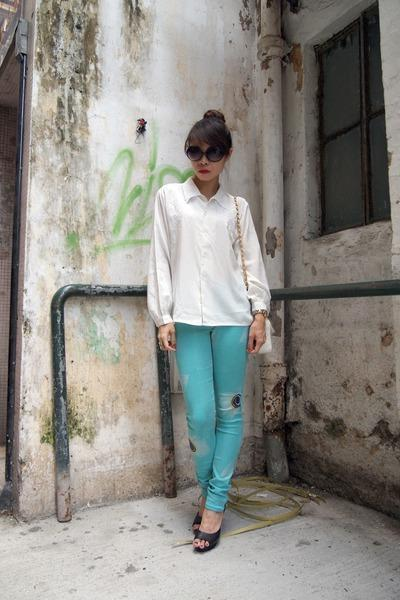long sleeve shirt: (141, 180, 271, 330)
trousers: (167, 301, 257, 512)
